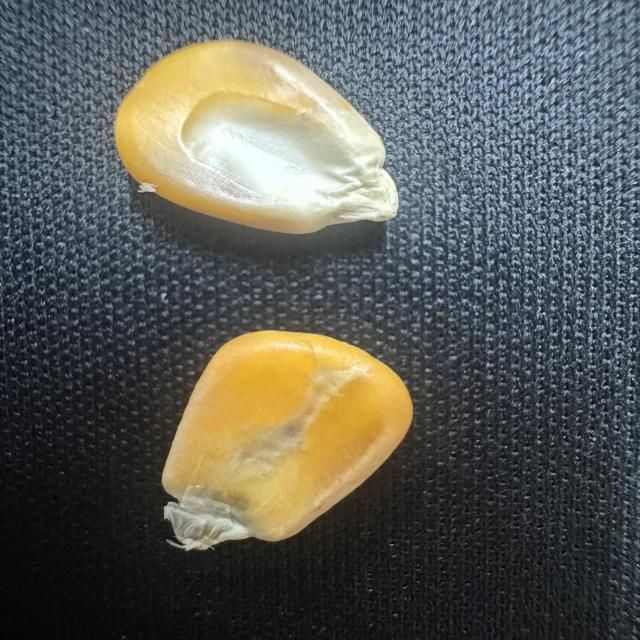Good-Seed: (96, 34, 421, 240), (144, 327, 428, 559)
